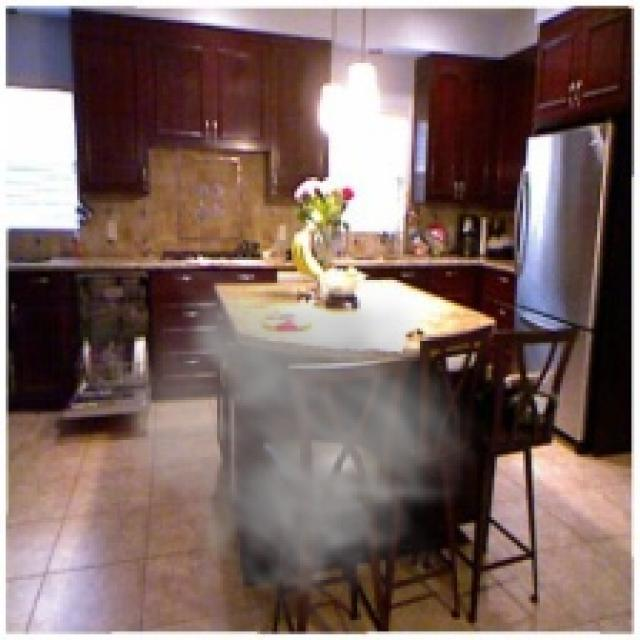Smoke: (100, 272, 489, 637)
